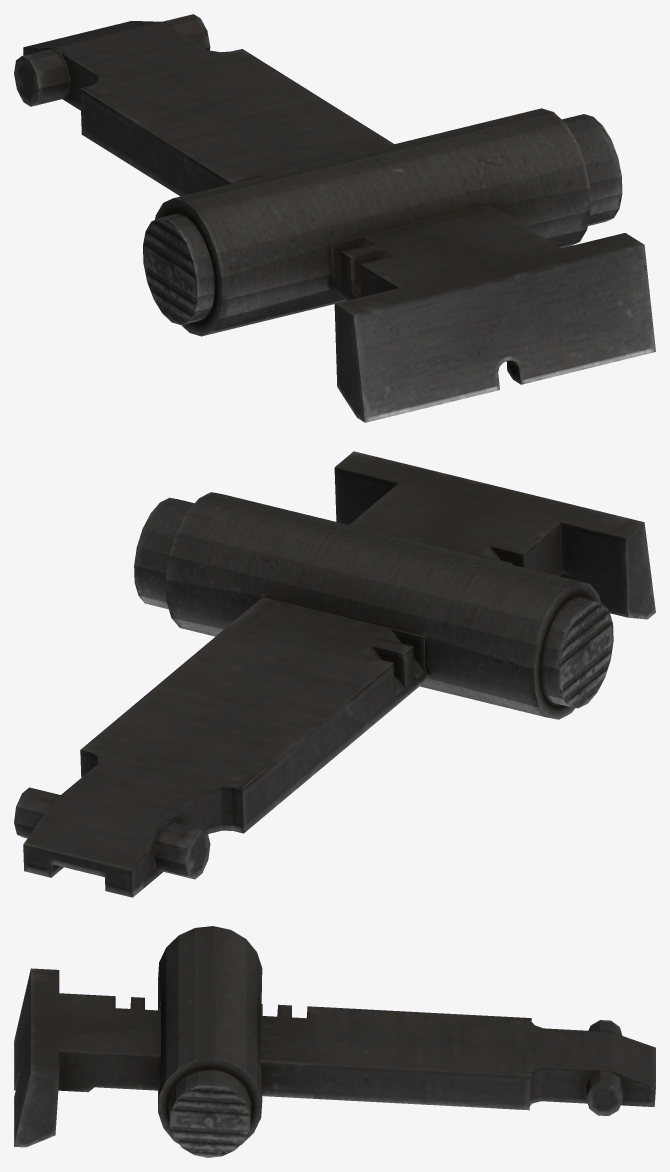
3 renders of one model, top to bottom at view 1: azimuth 30°, elevation 25°; view 2: azimuth 150°, elevation 25°; view 3: azimuth 270°, elevation 25°, orthographic. The views are drawn at different scales.
Parts seen in each view (by area): view 1: TW_5c503b1c2e221602b21d6e9d_PZ_Import; view 2: TW_5c503b1c2e221602b21d6e9d_PZ_Import; view 3: TW_5c503b1c2e221602b21d6e9d_PZ_Import.
Boxes of the visible parts, x1,y1,x2,y2 form: TW_5c503b1c2e221602b21d6e9d_PZ_Import: (14,14,655,422); TW_5c503b1c2e221602b21d6e9d_PZ_Import: (14,451,655,897); TW_5c503b1c2e221602b21d6e9d_PZ_Import: (14,926,655,1157).
Size of the model in its own units: 0.0182 by 0.0321 by 0.00552.
Materials: 1 (1 with a texture image).
